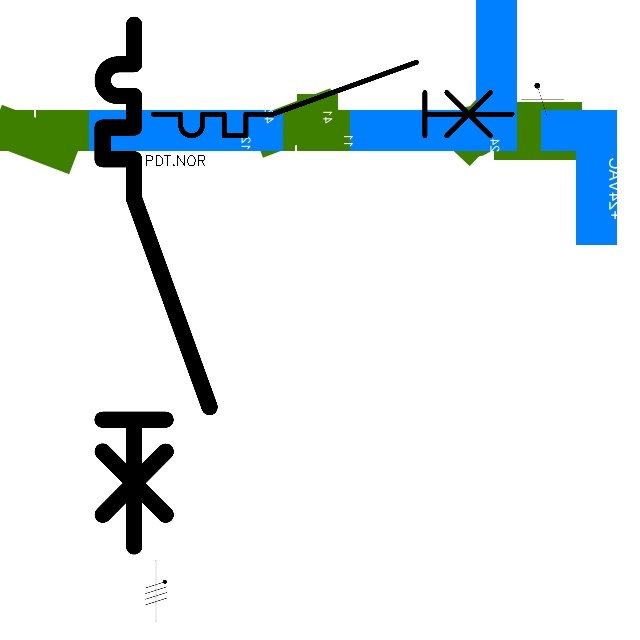interruptor_termomagnetico: (89, 11, 223, 559), (144, 53, 521, 145)
